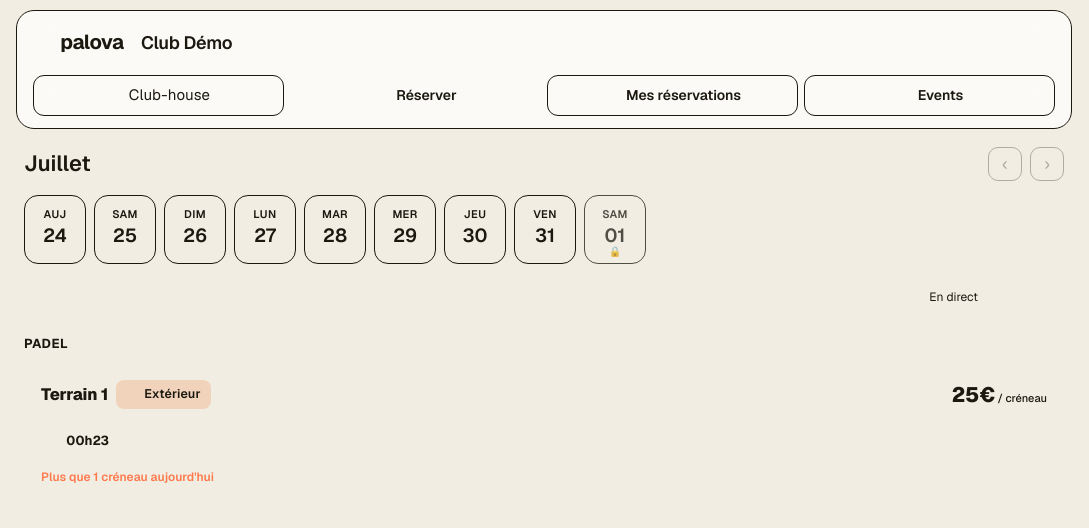
ClubReserve — rendez-vous d'ouverture › affiche le jour verrouillé 🔒 et, au tap, le compte à rebours plein cadre
The width and height of the screenshot is (1089, 528).
What coordinates should you click on to do the following:
click the button with aria-label "ouvre bientôt"
I would click on:
 (615, 229)
Its box is [584,194,646,264].
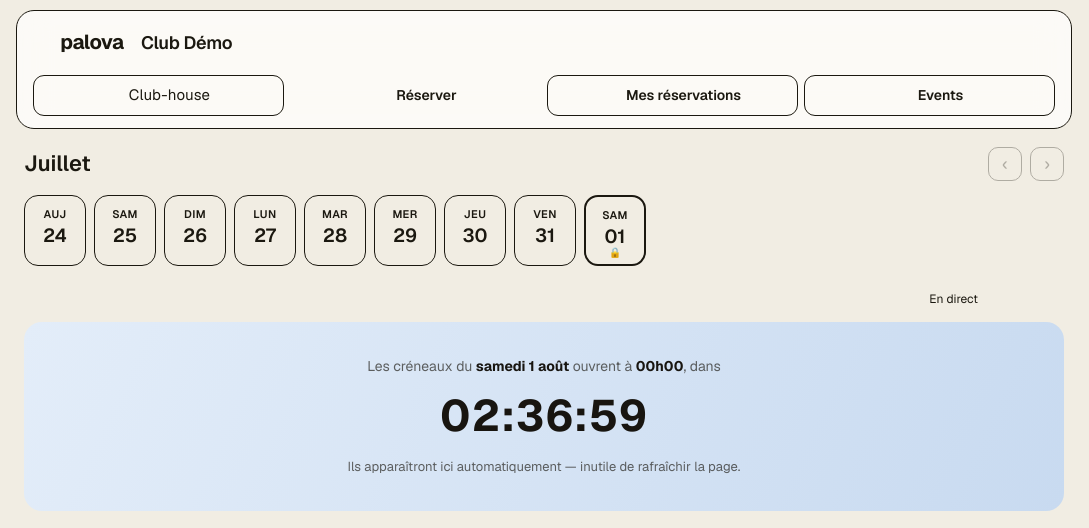
Result: the text "apparaîtront ici automatiquement" is shown at [348,458,740,475]
